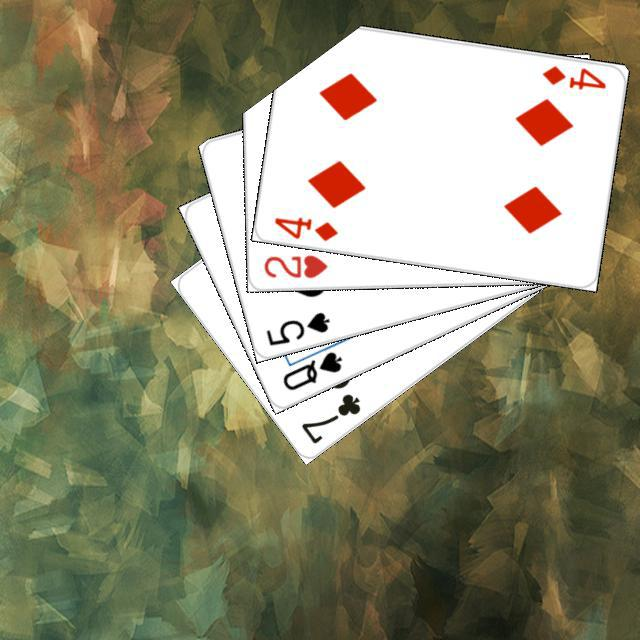2h: (259, 250, 329, 280)
4d: (537, 60, 608, 92), (269, 212, 340, 243)
5s: (261, 307, 332, 347)
7c: (296, 388, 363, 446)
Qs: (277, 346, 344, 392)
